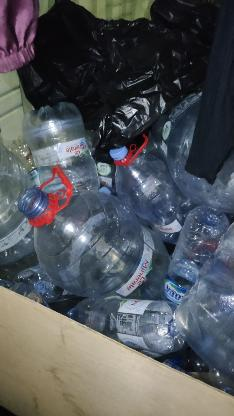Plastic Bottle: (22, 178, 174, 314), (164, 197, 234, 371), (18, 101, 108, 196)
